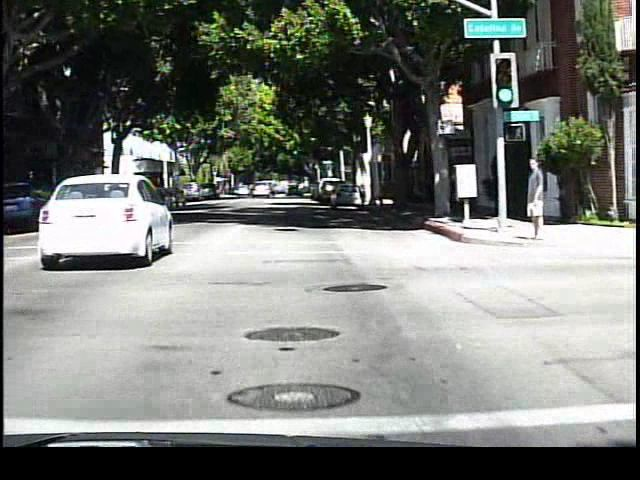person: (519, 151, 549, 245)
